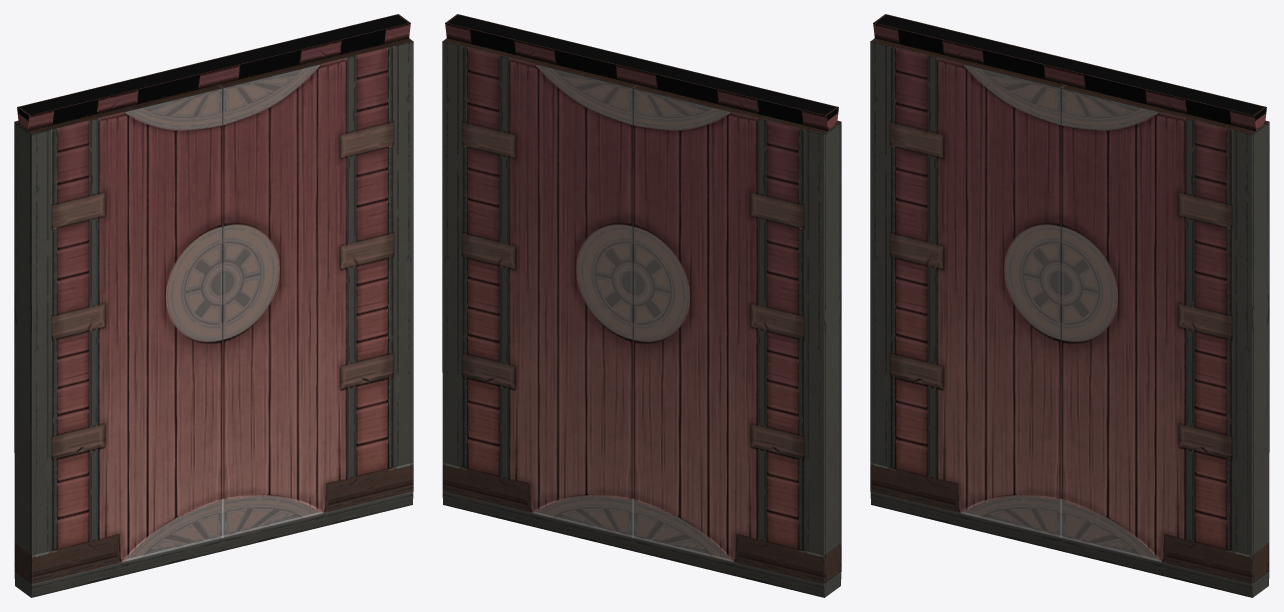
Rendered from mod_zlc_jianzhu017_xy.FBX.
3 renders of one model, left to right at view 1: azimuth 30°, elevation 25°; view 2: azimuth 150°, elevation 25°; view 3: azimuth 330°, elevation 25°, orthographic.
Parts seen in each view (by area): view 1: mod_zlc_jianzhu017_xy; view 2: mod_zlc_jianzhu017_xy; view 3: mod_zlc_jianzhu017_xy.
Boxes of the visible parts, box(x1,y1,x2,y2) form: mod_zlc_jianzhu017_xy: box(14, 14, 413, 597); mod_zlc_jianzhu017_xy: box(442, 14, 841, 597); mod_zlc_jianzhu017_xy: box(870, 14, 1269, 597).
Size of the model in its own units: 557 by 670 by 44.61.
Materials: 1 (1 with a texture image).
